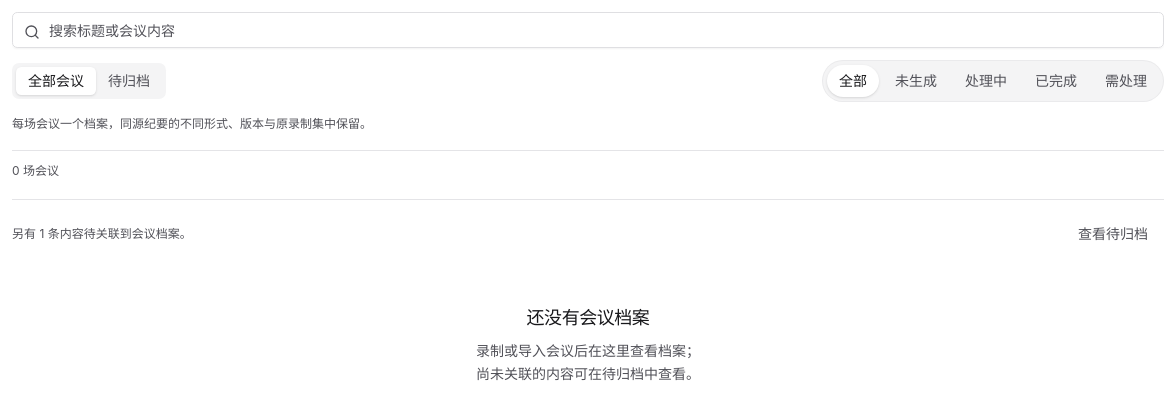
Test: retains known date-only metadata without fabricating a midnight time
Step 1. Press the mouse on the tab "待归档" → coordinates (129, 81), box [96, 67, 162, 95]
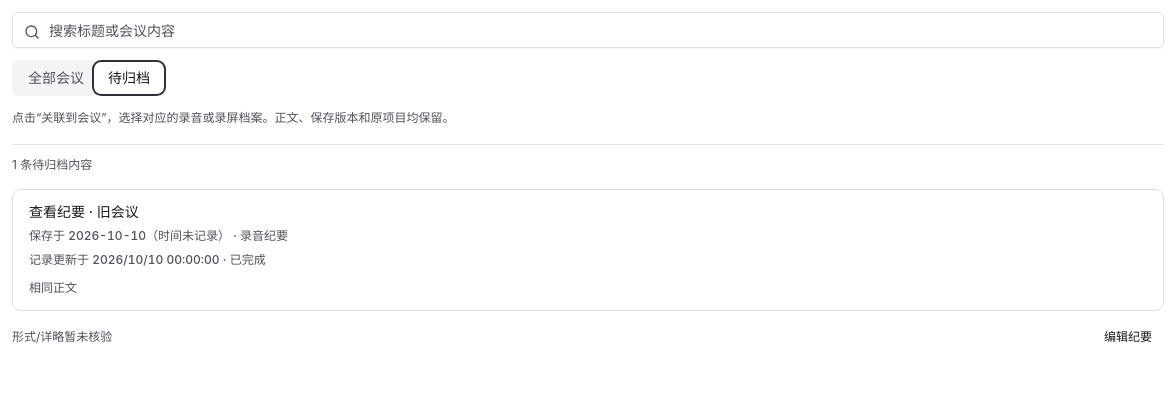
Check: the text "2026-10-10（时间未记录）" is shown, box [68, 228, 230, 243]
